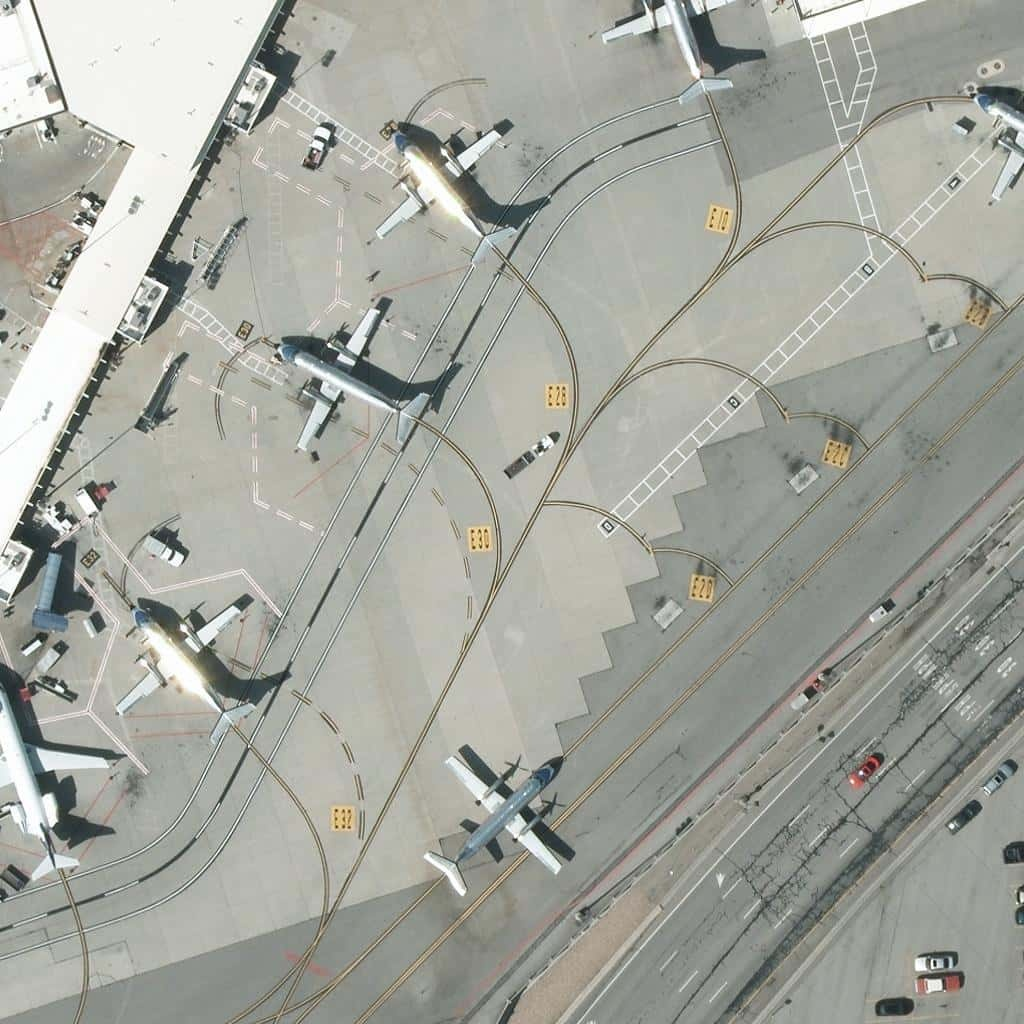plane: (1, 679, 114, 879), (420, 756, 565, 903), (118, 592, 263, 739), (278, 303, 423, 450), (363, 116, 508, 263), (600, 1, 746, 113), (956, 55, 1023, 206)
